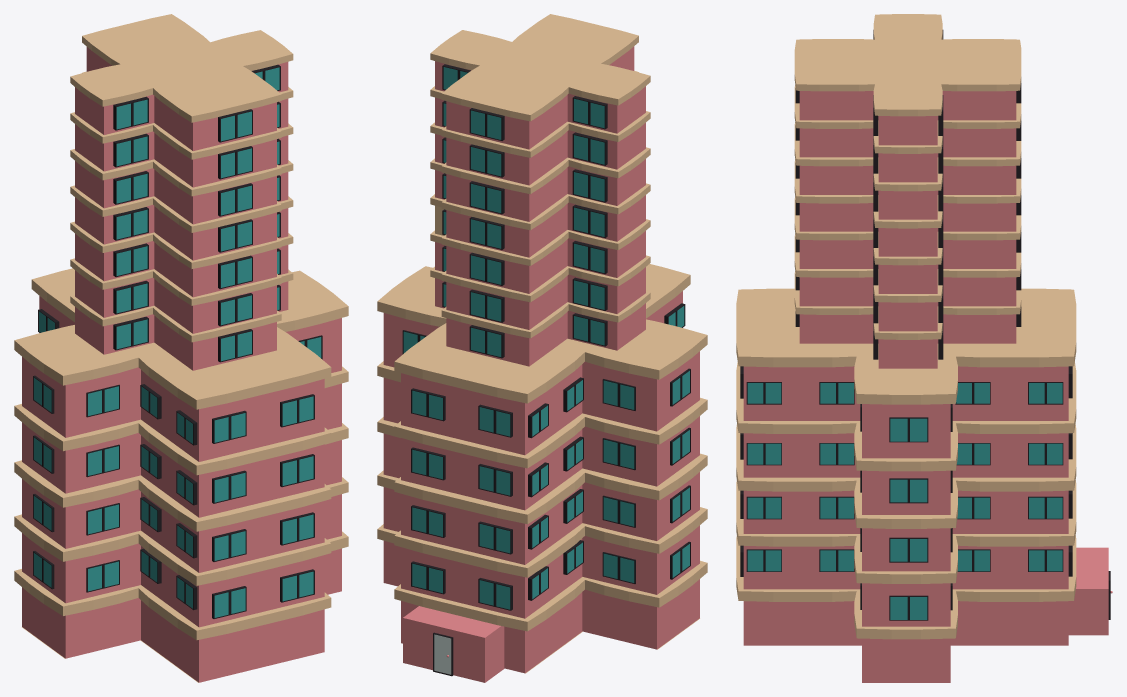
Rendered from skyscraper3_big.fbx.
3 views of the same model, side by side, from view 1: azimuth 30°, elevation 25°; view 2: azimuth 150°, elevation 25°; view 3: azimuth 270°, elevation 25° (orthographic). The views are drawn at different scales.
Visible parts, largest first — view 1: Plane.004, Plane, Plane.003, Plane.002, Cube.080, Cube.081, Cube.082, Cube.093, Cube.084, Cube.085, Cube.083, Cube.076 (+30 smaller); view 2: Plane.004, Plane, Plane.003, Plane.002, Cube, Cube.070, Cube.069, Cube.071, Cube.068, Cube.072, Cube.073, Cube.095 (+32 smaller); view 3: Plane.004, Plane.003, Plane, Plane.002, Cube, Cube.038, Cube.039, Cube.040, Cube.105, Cube.023, Cube.017, Cube.022 (+13 smaller).
Part boxes in pixels (left/top/right/bottom): Plane.004: left=22, top=296, right=341, bottom=682; Plane: left=14, top=268, right=348, bottom=682; Plane.003: left=75, top=47, right=288, bottom=370; Plane.002: left=70, top=14, right=293, bottom=342; Cube.080: left=113, top=316, right=148, bottom=350; Cube.081: left=113, top=280, right=148, bottom=314; Cube.082: left=113, top=243, right=148, bottom=277; Cube.093: left=113, top=96, right=148, bottom=130; Cube.084: left=113, top=171, right=148, bottom=204; Cube.085: left=113, top=133, right=148, bottom=167; Cube.083: left=113, top=207, right=148, bottom=240; Cube.076: left=218, top=255, right=252, bottom=289; Plane.004: left=383, top=291, right=699, bottom=673; Plane: left=377, top=264, right=707, bottom=673; Plane.003: left=435, top=46, right=645, bottom=366; Plane.002: left=430, top=14, right=650, bottom=338; Cube: left=403, top=606, right=504, bottom=682; Cube.070: left=572, top=241, right=607, bottom=274; Cube.069: left=572, top=277, right=607, bottom=310; Cube.071: left=572, top=204, right=607, bottom=238; Cube.068: left=572, top=313, right=607, bottom=346; Cube.072: left=572, top=169, right=607, bottom=202; Cube.073: left=572, top=132, right=607, bottom=165; Cube.095: left=572, top=96, right=607, bottom=129; Plane.004: left=743, top=366, right=1068, bottom=682; Plane.003: left=799, top=91, right=1016, bottom=368; Plane: left=736, top=288, right=1076, bottom=639; Plane.002: left=794, top=14, right=1021, bottom=339; Cube: left=1068, top=547, right=1108, bottom=635; Cube.038: left=889, top=595, right=928, bottom=620; Cube.039: left=889, top=537, right=928, bottom=562; Cube.040: left=889, top=478, right=928, bottom=503; Cube.105: left=889, top=417, right=928, bottom=442; Cube.023: left=819, top=496, right=854, bottom=519; Cube.017: left=1028, top=496, right=1063, bottom=519; Cube.022: left=746, top=496, right=781, bottom=519.
Bounding box in the file's own units: 3694 × 6634 × 4089.
6 materials, 4 textured.
